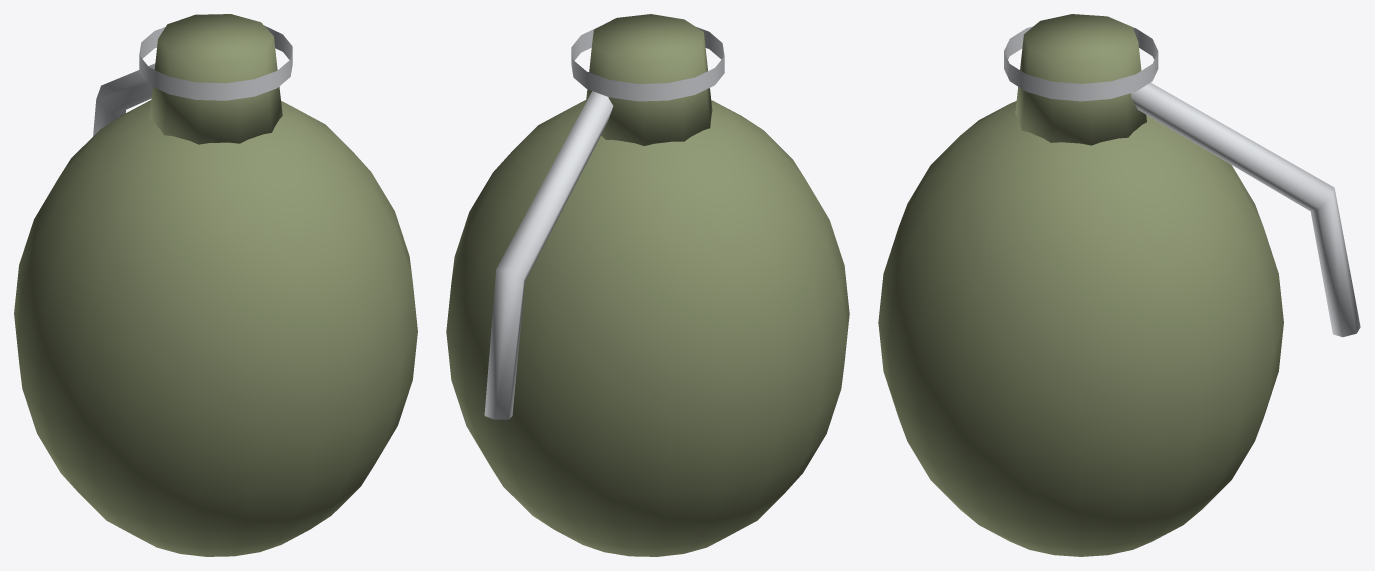
Rendered from grenade.glb.
3 renders of one model, left to right at view 1: azimuth 30°, elevation 25°; view 2: azimuth 150°, elevation 25°; view 3: azimuth 270°, elevation 25°, orthographic.
Parts seen in each view (by area): view 1: Grenade; view 2: Grenade; view 3: Grenade.
Boxes of the visible parts, left/top/right/bottom form: Grenade: left=14, top=14, right=417, bottom=556; Grenade: left=446, top=14, right=849, bottom=556; Grenade: left=878, top=14, right=1360, bottom=556.
Bounding box in the file's own units: 0.084 × 0.115 × 0.0999.
